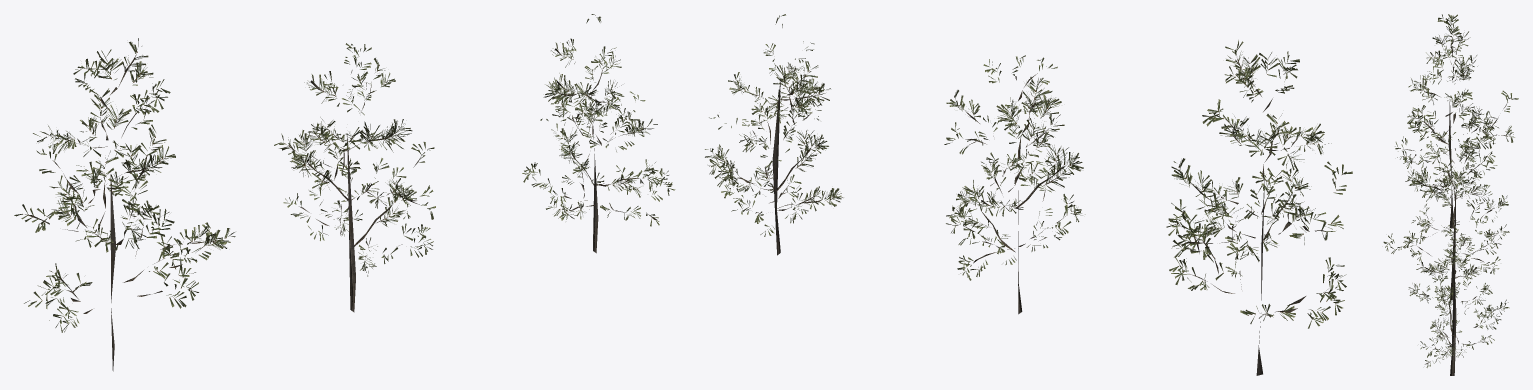
The model's file is pine-far.glb.
3 renders of one model, left to right at view 1: azimuth 30°, elevation 25°; view 2: azimuth 150°, elevation 25°; view 3: azimuth 270°, elevation 25°, orthographic. The views are drawn at different scales.
Parts seen in each view (by area): view 1: pine_sapling_small_a, pine_sapling_small_b, pine_sapling_small_c; view 2: pine_sapling_small_a, pine_sapling_small_b, pine_sapling_small_c; view 3: pine_sapling_small_a, pine_sapling_small_b, pine_sapling_small_c.
Boxes of the visible parts, box(x1,y1,x2,y2) form: pine_sapling_small_a: box(14, 38, 235, 371); pine_sapling_small_b: box(274, 43, 435, 312); pine_sapling_small_c: box(522, 14, 675, 253); pine_sapling_small_a: box(1166, 40, 1352, 375); pine_sapling_small_b: box(944, 55, 1085, 314); pine_sapling_small_c: box(705, 14, 843, 255); pine_sapling_small_a: box(1395, 14, 1518, 228); pine_sapling_small_b: box(1383, 132, 1509, 300); pine_sapling_small_c: box(1408, 225, 1509, 375).
Bounding box in the file's own units: 2.62 × 1.29 × 0.7677.
2 materials, 2 textured.
